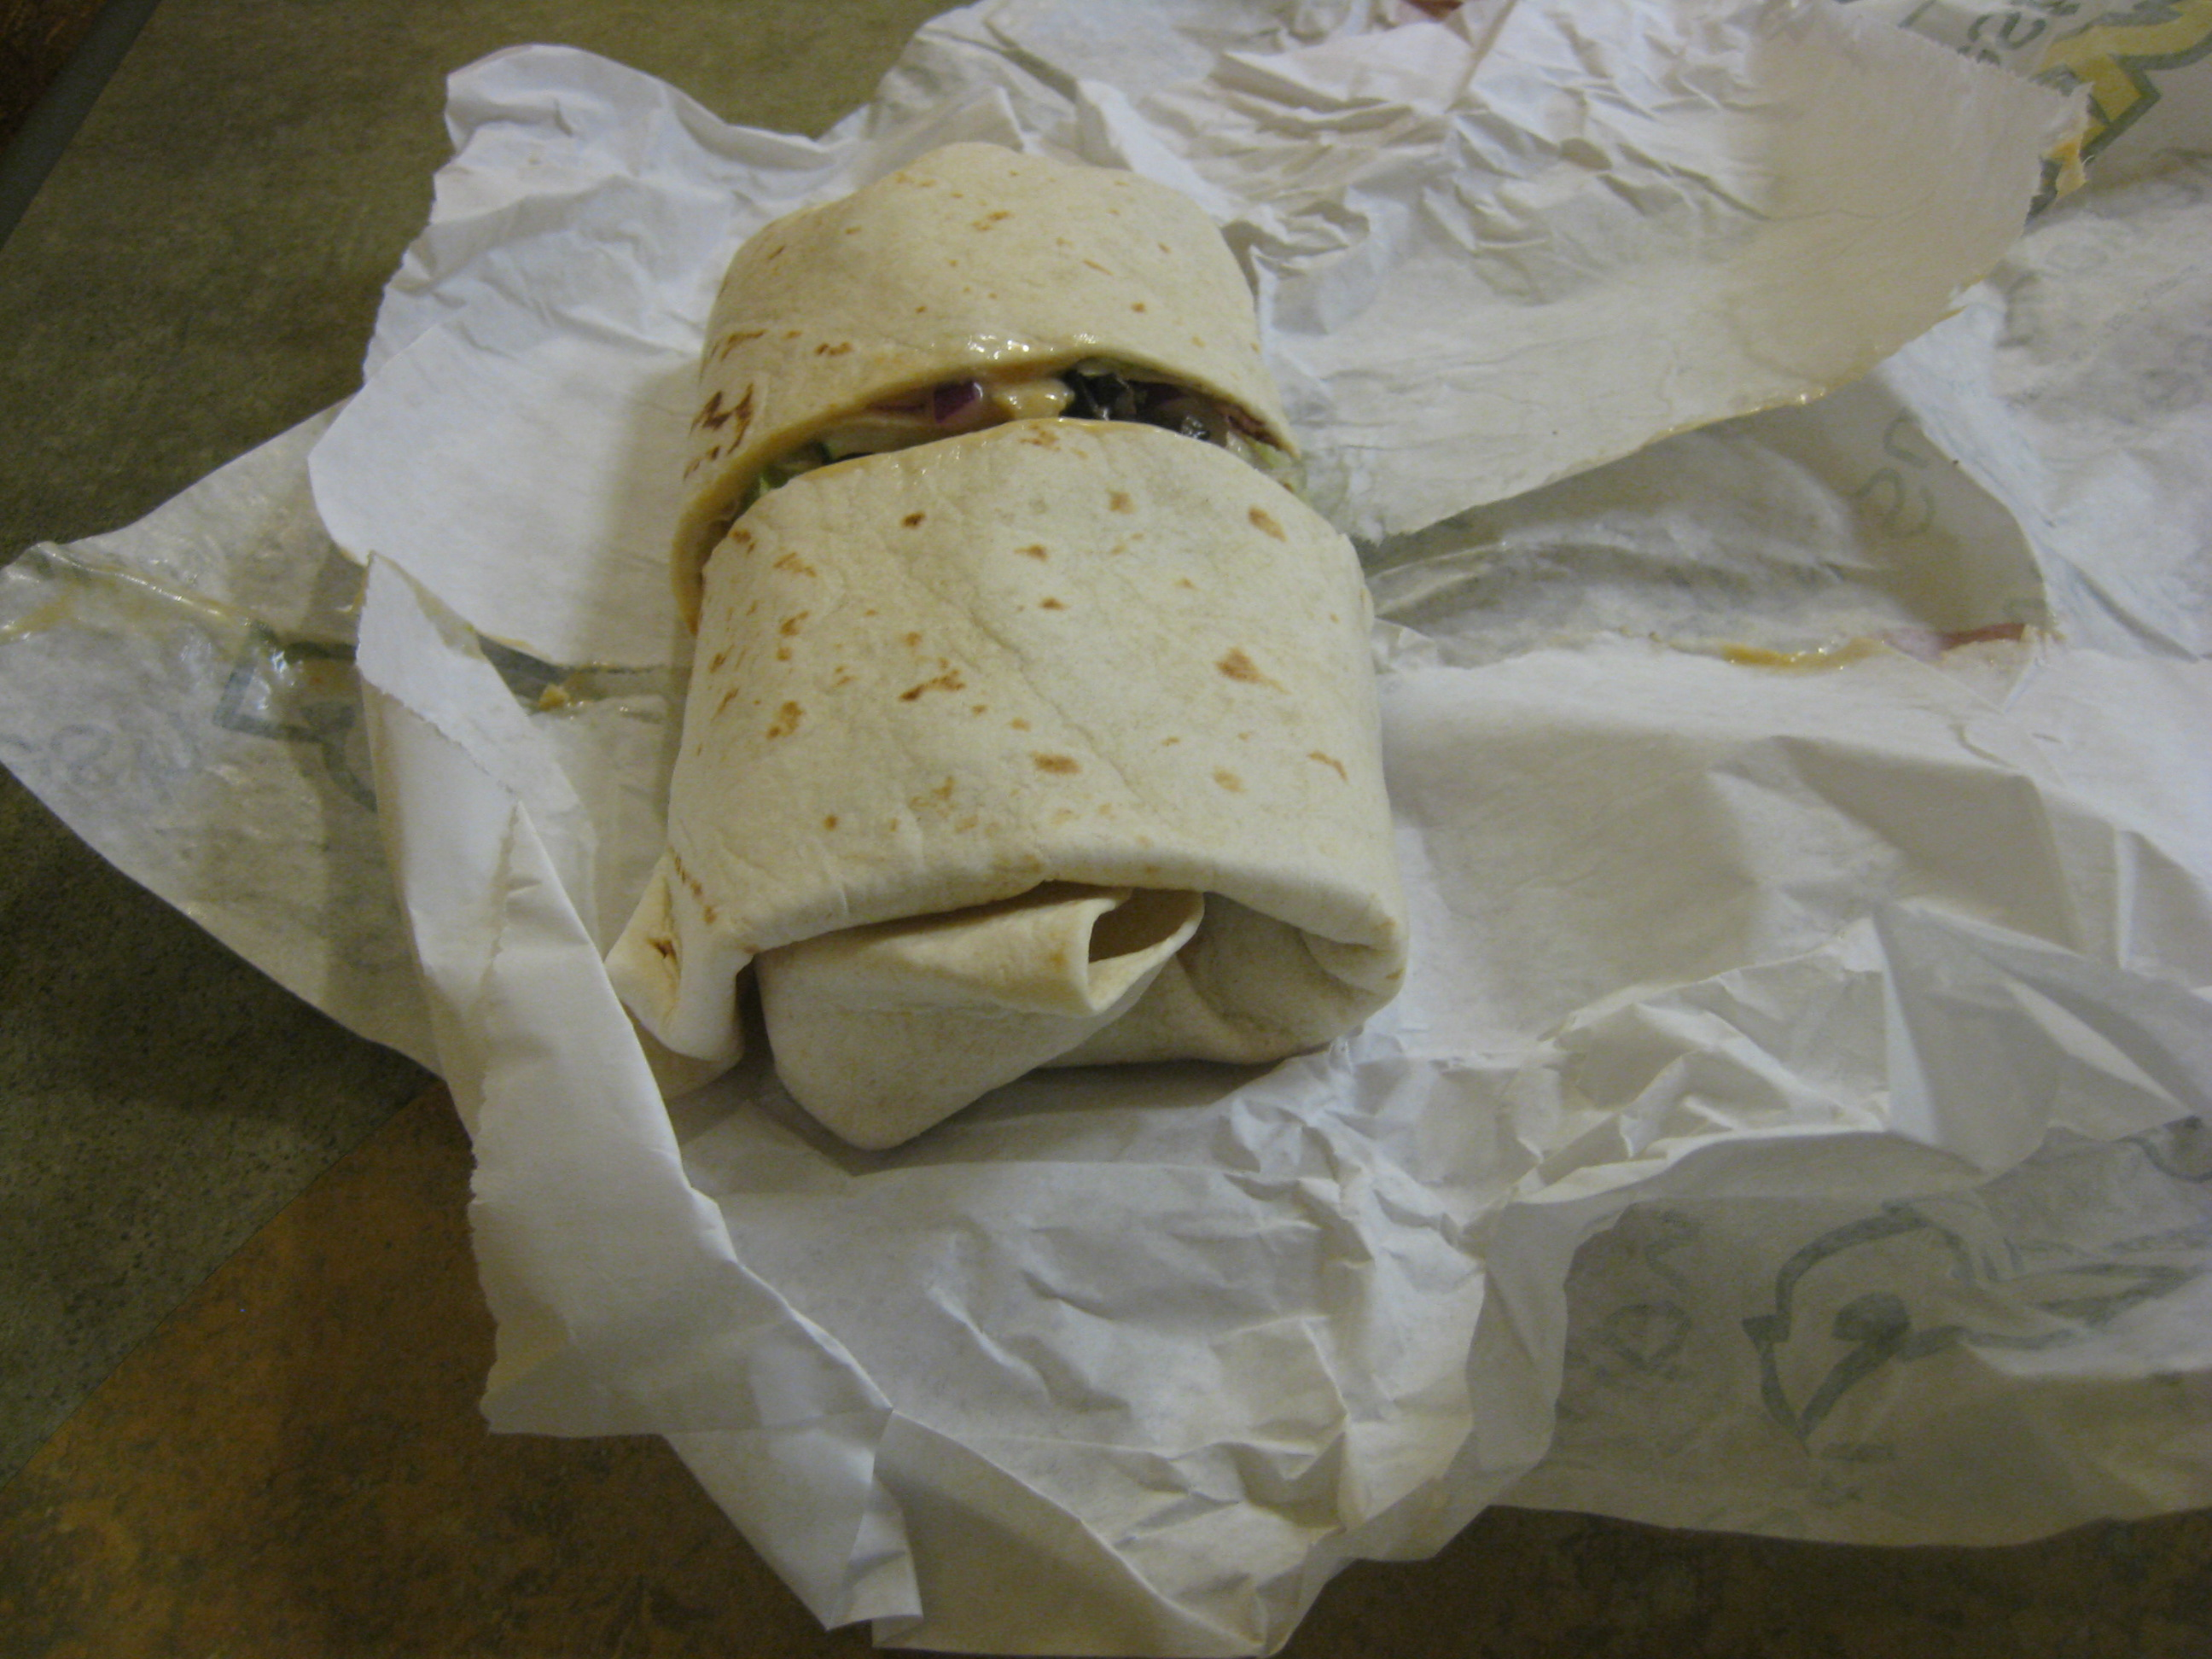burrito: (637, 160, 1488, 1141)
